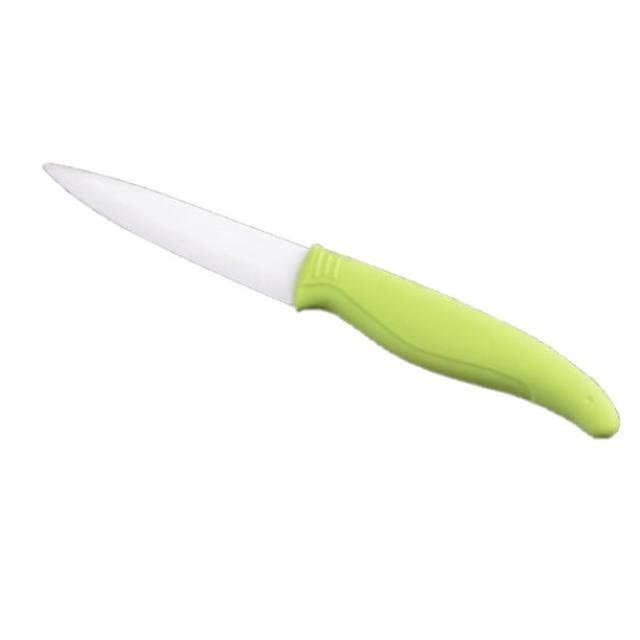knife: (37, 156, 625, 447)
